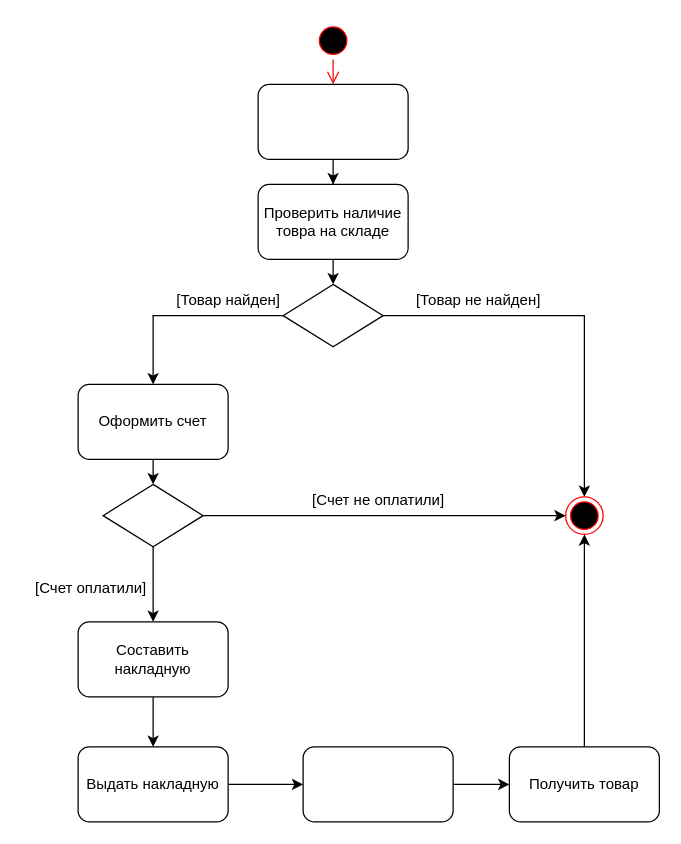
Image size: 681x844. Some labels were removed from this diagram. Here are the shapes that lost their labels. From the top down, the box of each, then its label:
(257, 83, 408, 159): Получить заказ
(302, 746, 453, 822): Предъявить накладную кладовщику
